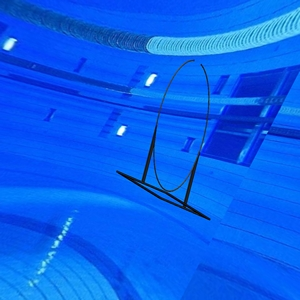circle: (115, 59, 214, 221)
